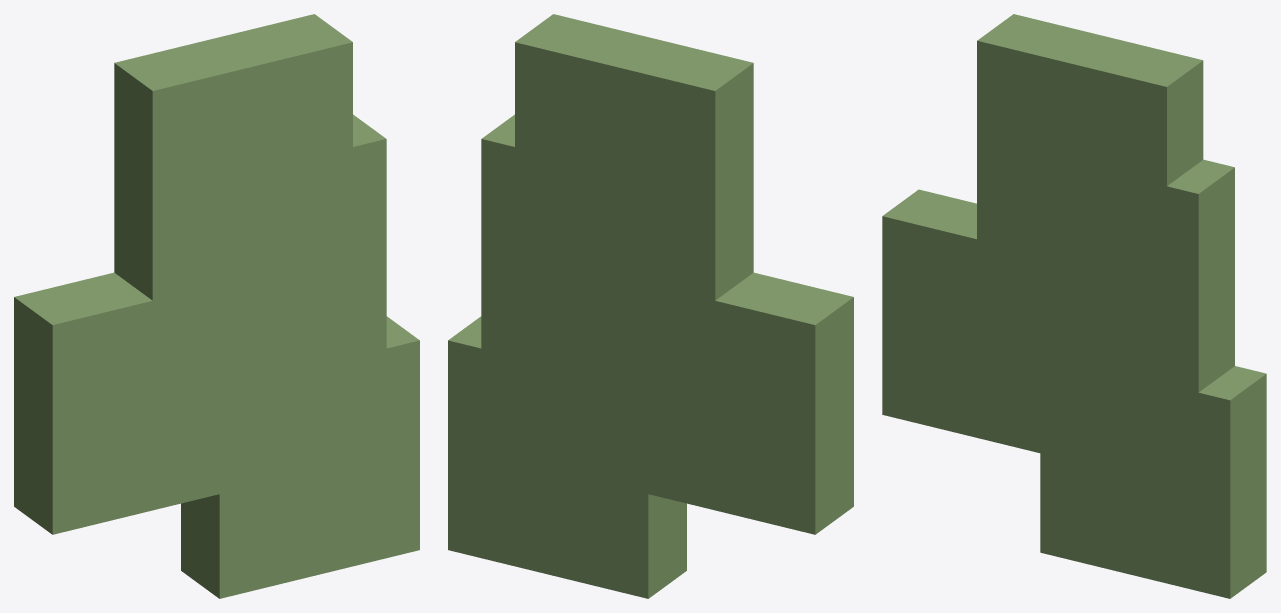
File: chumbera_04.glb
3 renders of one model, left to right at view 1: azimuth 30°, elevation 25°; view 2: azimuth 150°, elevation 25°; view 3: azimuth 330°, elevation 25°, orthographic. The views are drawn at different scales.
Visible parts, largest first — view 1: chumbera_04; view 2: chumbera_04; view 3: chumbera_04.
Boxes of the visible parts, x1,y1,x2,y2 form: chumbera_04: (14, 14, 419, 598); chumbera_04: (448, 14, 853, 598); chumbera_04: (882, 14, 1266, 598).
Bounding box in the file's own units: 1.1 × 1.5 × 0.2.
